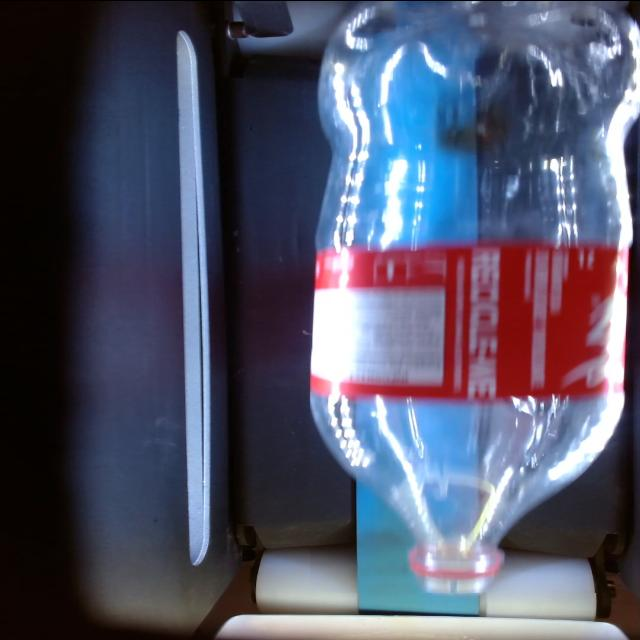bottle: (311, 1, 635, 591)
